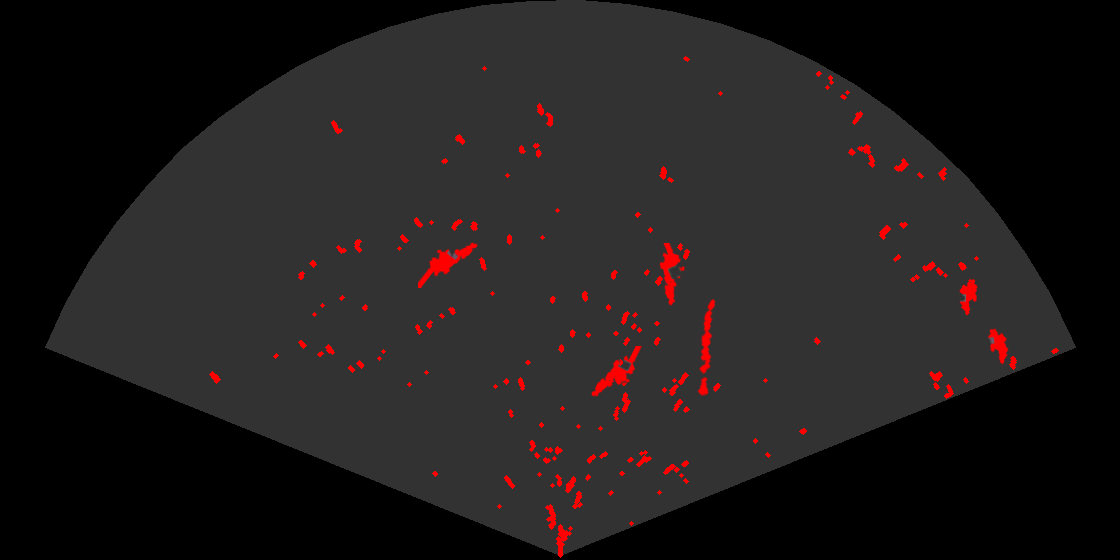AUV: (986, 327, 1010, 366), (958, 277, 979, 317)
chain: (696, 297, 717, 396)
frogman: (418, 241, 479, 288), (590, 346, 644, 398), (658, 243, 687, 307)
